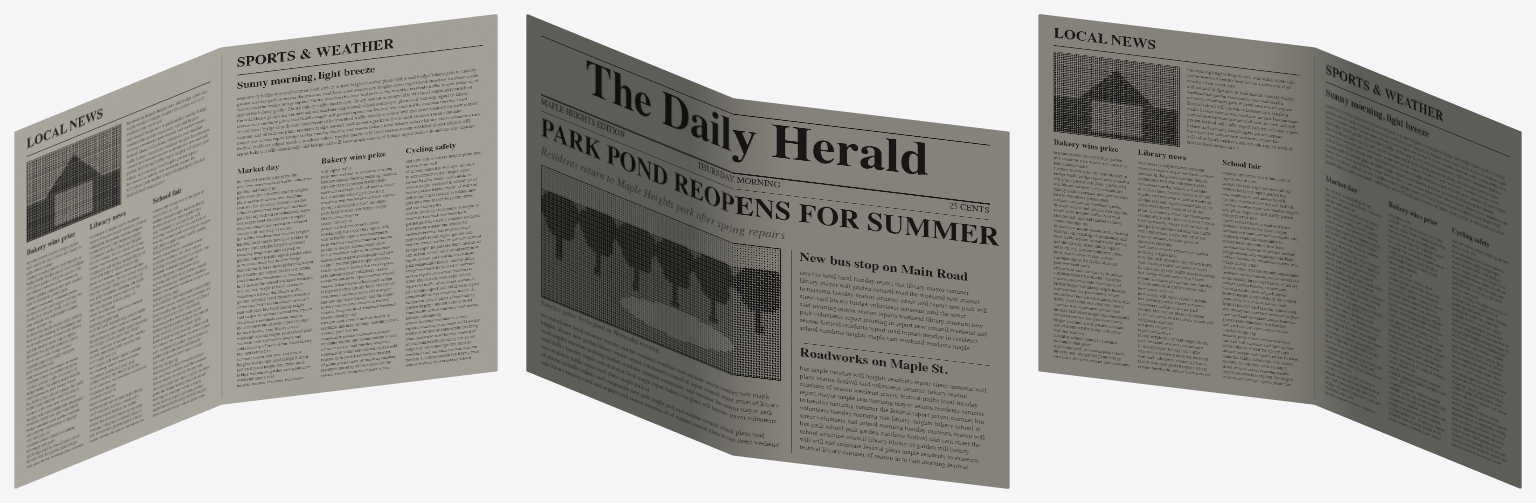
Rendered from newspaper_open.glb.
3 renders of one model, left to right at view 1: azimuth 30°, elevation 25°; view 2: azimuth 150°, elevation 25°; view 3: azimuth 330°, elevation 25°, orthographic.
Parts seen in each view (by area): view 1: Paper; view 2: Paper; view 3: Paper.
Part boxes in pixels (bbox=[...]): Paper: bbox=[14, 14, 497, 488]; Paper: bbox=[526, 14, 1009, 488]; Paper: bbox=[1038, 14, 1521, 488].
Size of the model in its own units: 0.6792 by 0.48 by 0.0867.
2 materials, 2 textured.
